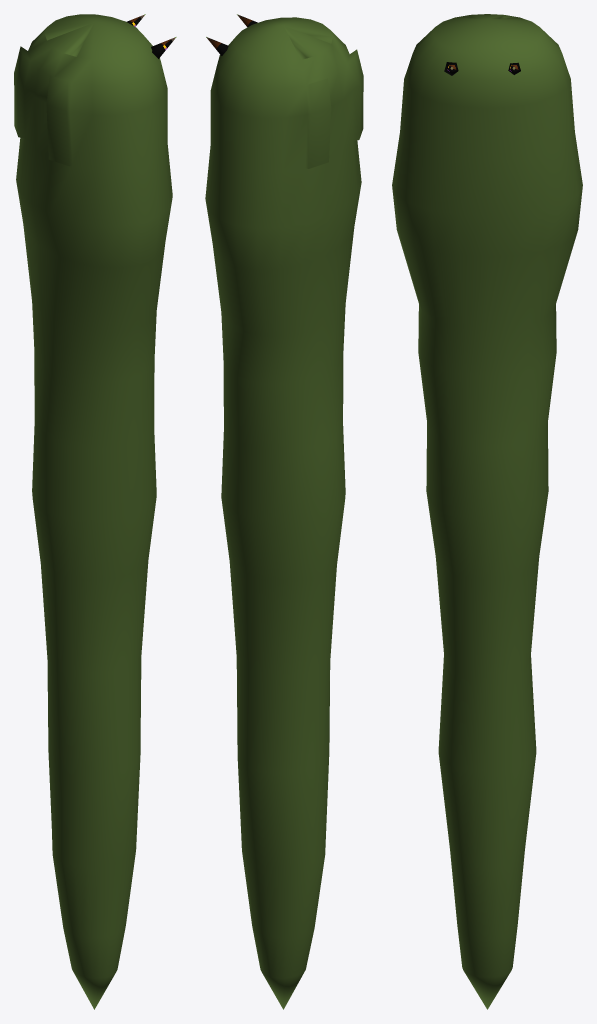
Rendered from Whip.fbx.
3 views of the same model, side by side, from view 1: azimuth 30°, elevation 25°; view 2: azimuth 150°, elevation 25°; view 3: azimuth 270°, elevation 25° (orthographic).
Parts seen in each view (by area): view 1: snake; view 2: snake; view 3: snake.
Boxes of the visible parts, x1,y1,x2,y2 form: snake: [14, 14, 172, 1009]; snake: [205, 17, 363, 1009]; snake: [392, 14, 582, 1009].
Bounding box in the file's own units: 0.5192 × 3.84 × 0.6714.
